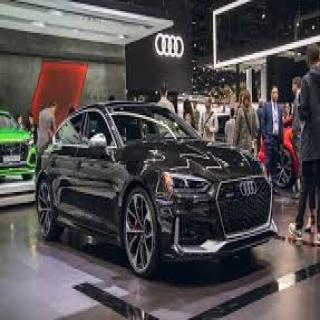Normal_vehicle: (34, 102, 276, 280), (266, 110, 316, 186), (0, 109, 35, 178)
